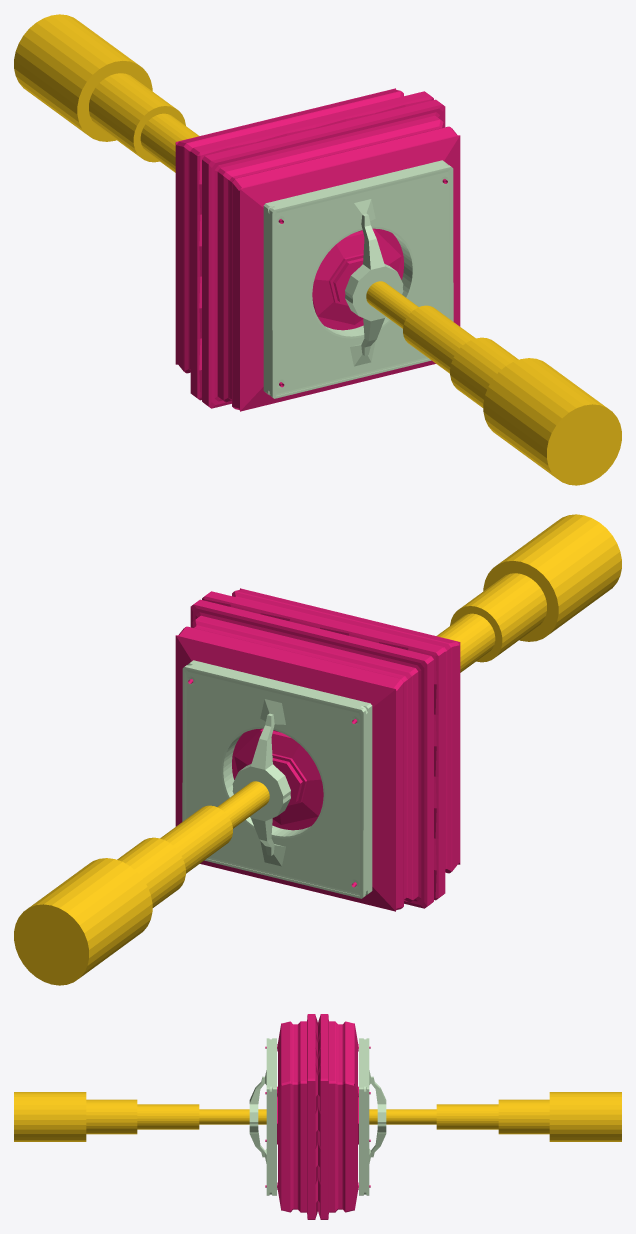
Rendered from PneumaticCrushingShapeKeys.fbx.
The picture shows the model from 3 angles, top to bottom: view 1: azimuth 30°, elevation 25°; view 2: azimuth 150°, elevation 25°; view 3: azimuth 270°, elevation 25°; orthographic projection. The views are drawn at different scales.
Parts seen in each view (by area): view 1: Crusher.002, OffsetPresser.002, PneumaticPress.002, PneumaticPress.001, Crusher.001; view 2: Crusher.001, OffsetPresser.001, PneumaticPress.001, PneumaticPress.002, Crusher.002; view 3: PneumaticPress.002, PneumaticPress.001, Crusher.002, Crusher.001, OffsetPresser.002, OffsetPresser.001.
Part boxes in pixels (bbox=[...]): Crusher.002: bbox=[202, 99, 460, 411]; OffsetPresser.002: bbox=[263, 160, 453, 398]; PneumaticPress.002: bbox=[366, 281, 621, 485]; PneumaticPress.001: bbox=[14, 14, 199, 172]; Crusher.001: bbox=[175, 88, 433, 400]; Crusher.001: bbox=[175, 599, 433, 911]; OffsetPresser.001: bbox=[182, 660, 372, 898]; PneumaticPress.001: bbox=[14, 781, 269, 985]; PneumaticPress.002: bbox=[436, 514, 621, 672]; Crusher.002: bbox=[202, 588, 460, 900]; PneumaticPress.002: bbox=[14, 1092, 266, 1141]; PneumaticPress.001: bbox=[369, 1092, 621, 1141]; Crusher.002: bbox=[265, 1014, 317, 1219]; Crusher.001: bbox=[318, 1014, 370, 1219]; OffsetPresser.002: bbox=[249, 1038, 276, 1195]; OffsetPresser.001: bbox=[359, 1038, 386, 1195].
Bounding box in the file's own units: 355 × 355 × 1386.
